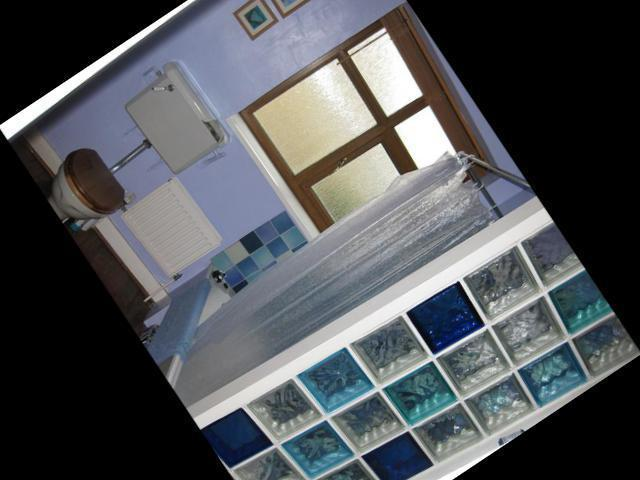Ducha: (146, 122, 640, 480)
Sanitario: (23, 58, 230, 238)
